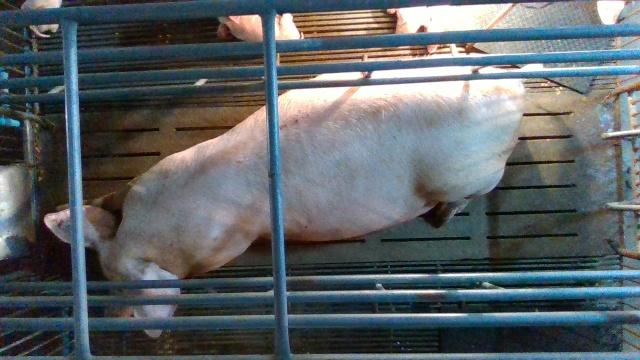piglet: (425, 4, 497, 52), (215, 13, 305, 41), (22, 0, 62, 38), (386, 6, 430, 33)
sow-sit: (45, 63, 545, 339)
